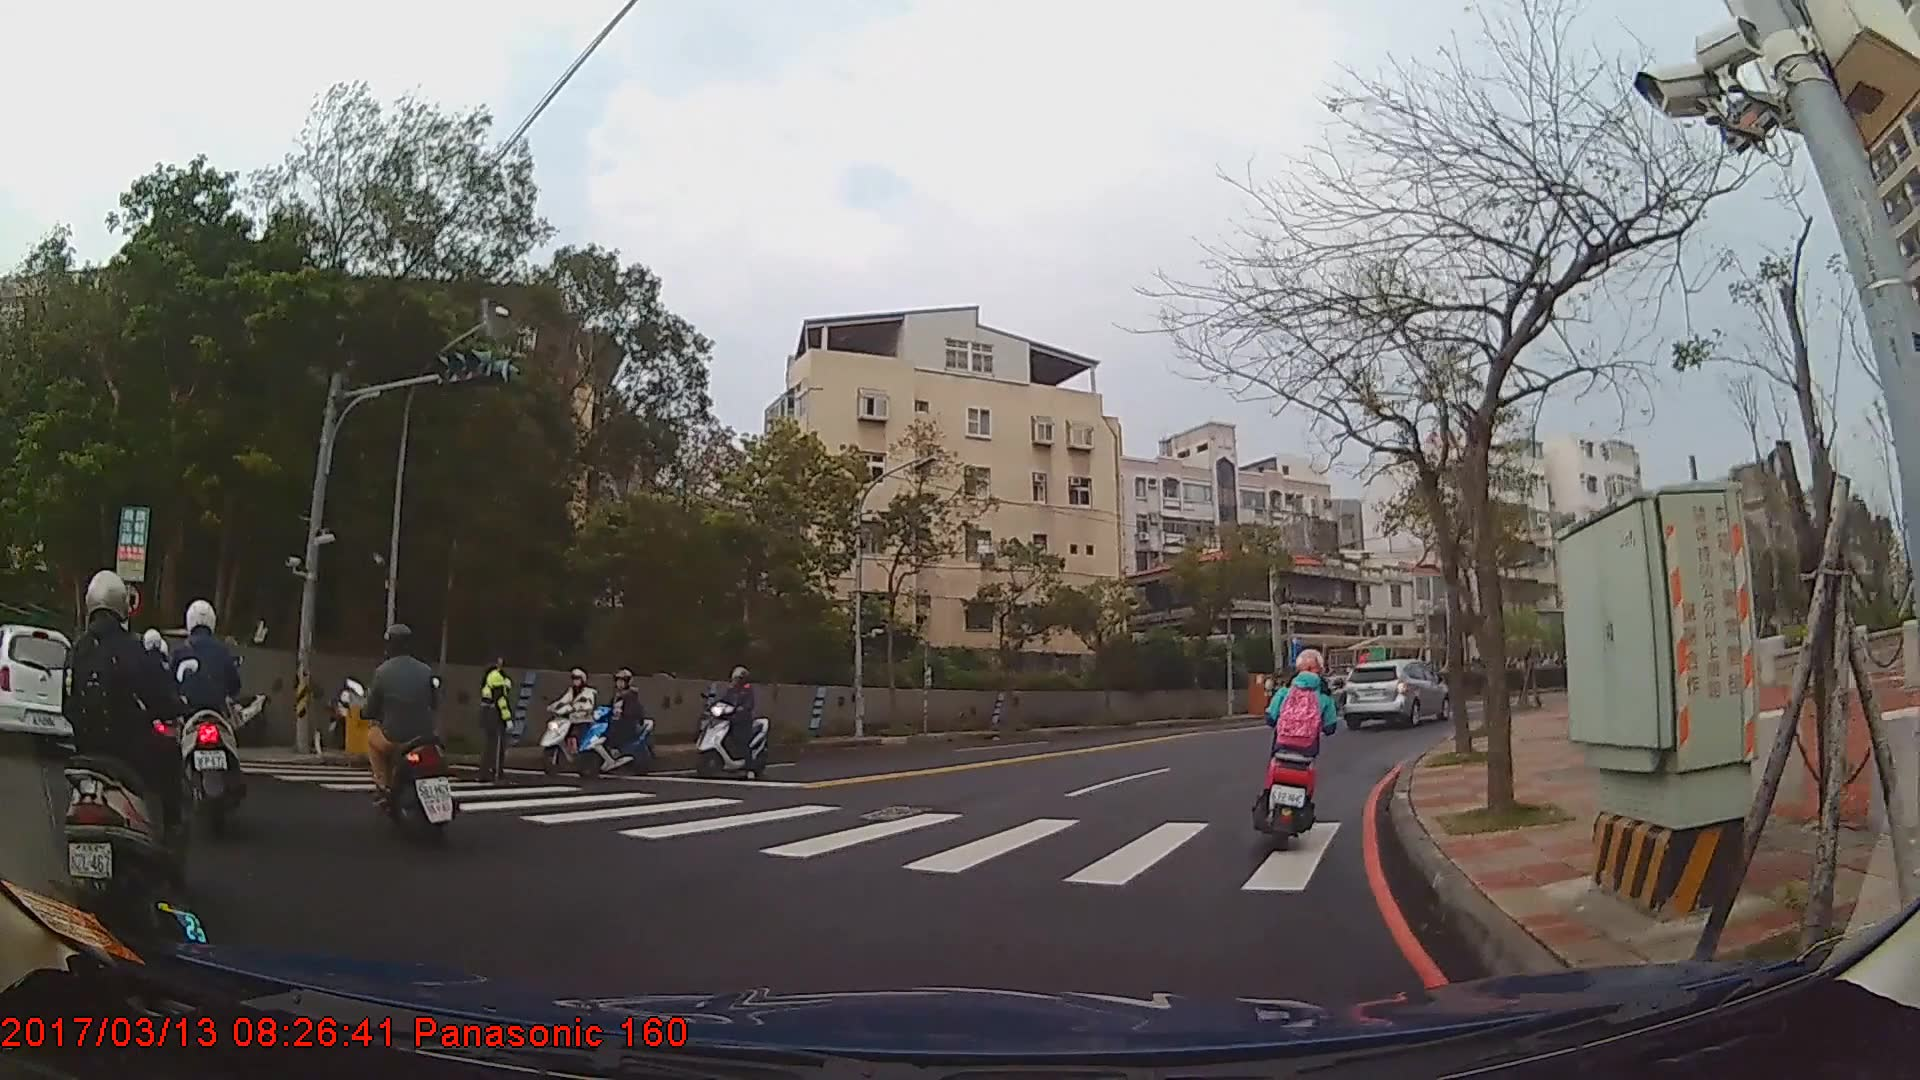pedestrian: (471, 653, 515, 791)
rider: (60, 570, 198, 933), (348, 624, 460, 851), (164, 601, 248, 840), (1257, 646, 1340, 845), (694, 671, 770, 782), (578, 671, 651, 780), (539, 673, 608, 776)
vehicle: (0, 620, 90, 756), (1340, 658, 1450, 729)
